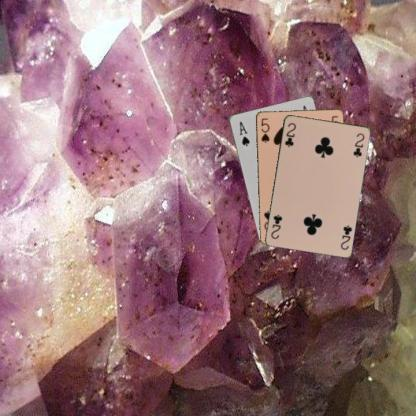2c: (338, 222, 353, 251), (282, 120, 297, 148)
5s: (258, 115, 270, 144)
As: (236, 119, 251, 147)
